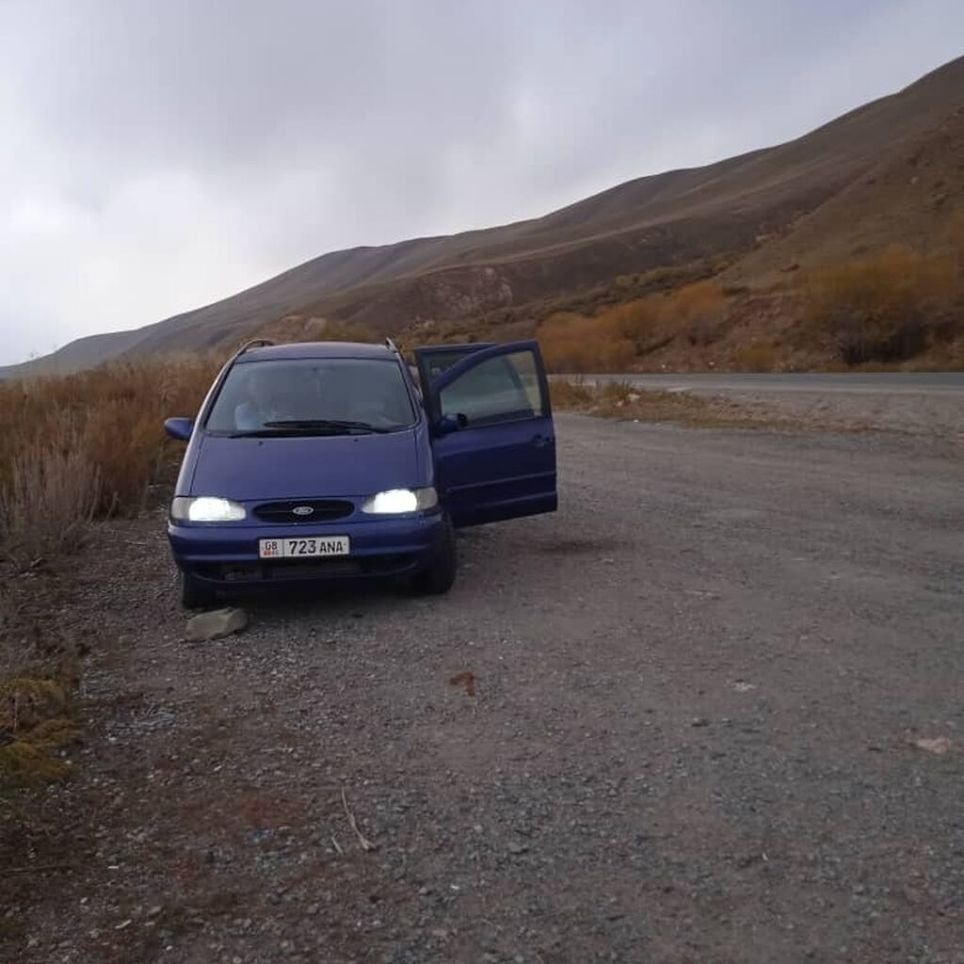license plate: (258, 533, 352, 560)
truck: (167, 327, 459, 601)
